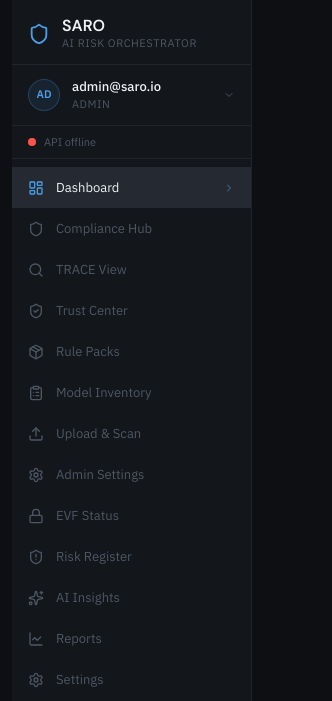
Test: Sidebar — STORY-412 AC-5 / STORY-TAB-008 AC-1+AC-2: consolidated persona tab sets › admin's switcher still opens on click (positive control — canSwitch is keyed off role, unaffected by STORY-412)
Expected: the text "Switch persona" is not shown
What coordinates should you click on to do the following:
click the text "admin@saro.io"
I would click on:
 (116, 86)
Its box is [72,78,161,95].
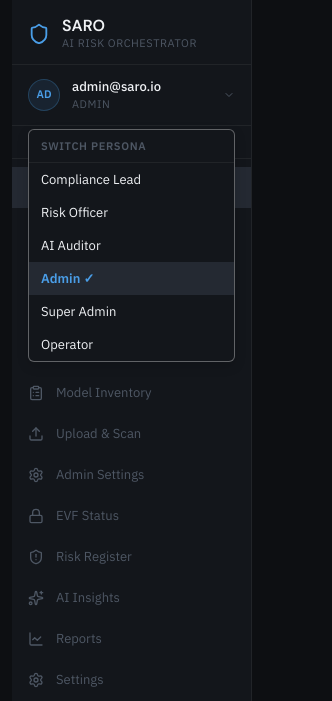
Now the text "Switch persona" is shown, box [29,130,234,163]
